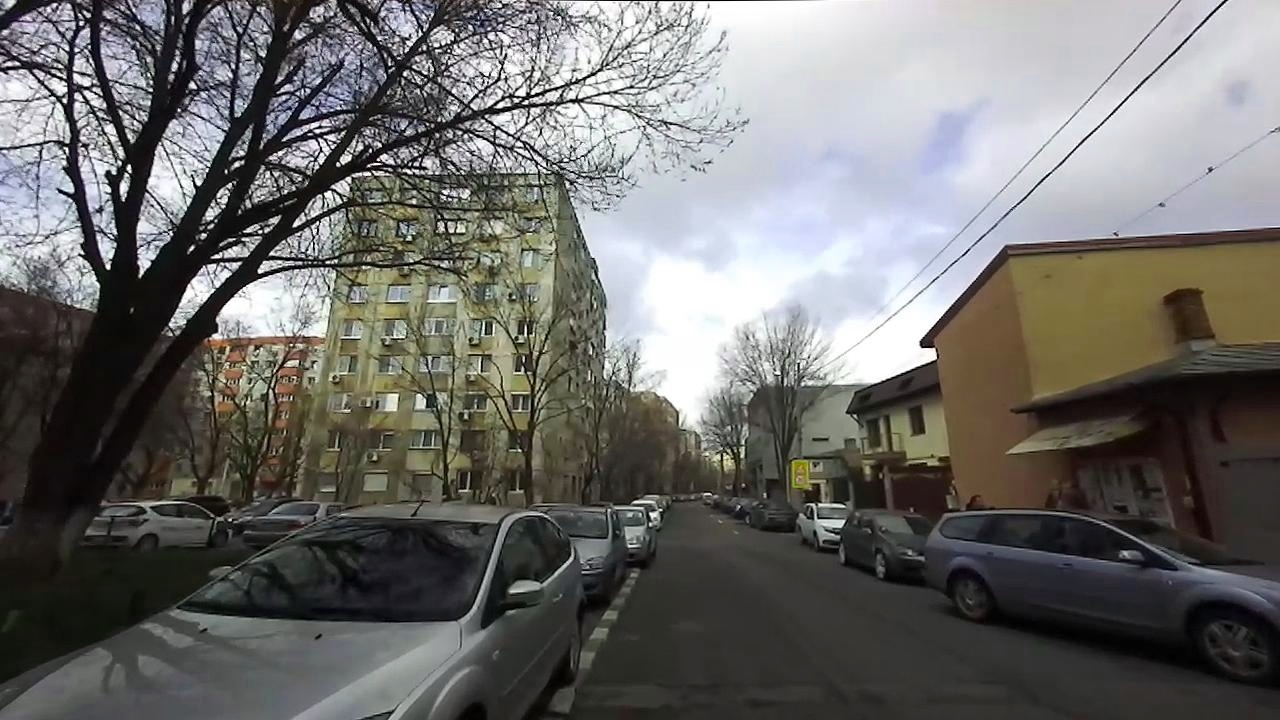pothole: (659, 679, 795, 718)
